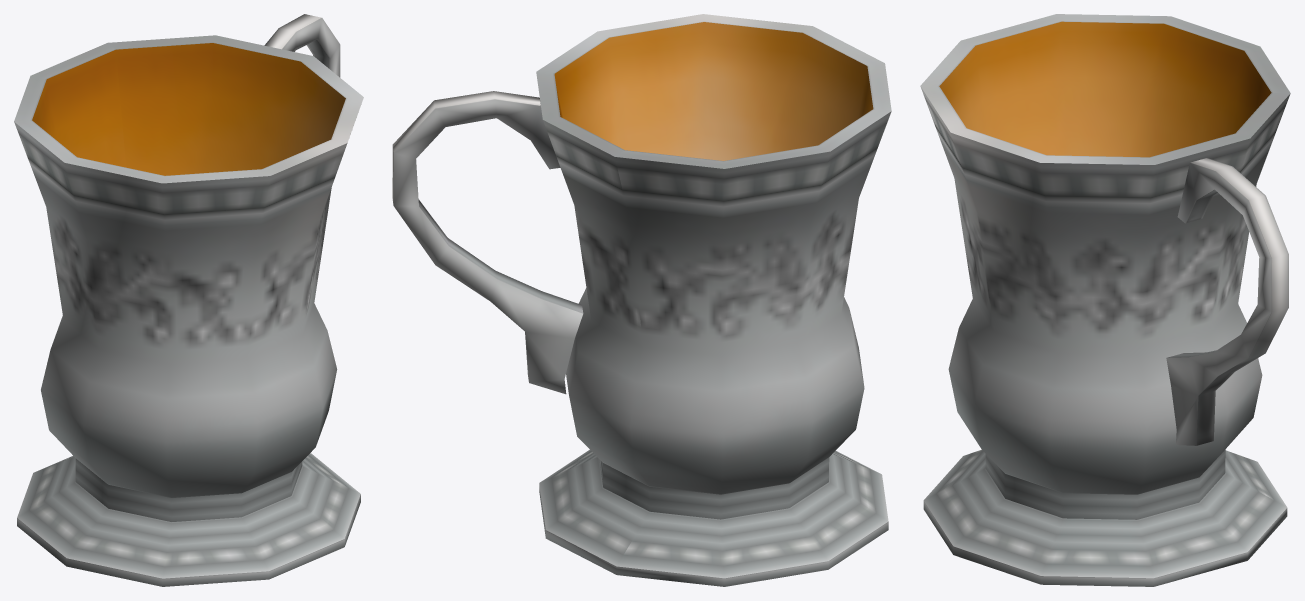
Rendered from TianZhuJiaoTang_01_yinsebeizi_01.FBX.
3 renders of one model, left to right at view 1: azimuth 30°, elevation 25°; view 2: azimuth 150°, elevation 25°; view 3: azimuth 270°, elevation 25°, orthographic. The views are drawn at different scales.
Visible parts, largest first — view 1: TianZhuJiaoTang_01_yinsebeizi_01; view 2: TianZhuJiaoTang_01_yinsebeizi_01; view 3: TianZhuJiaoTang_01_yinsebeizi_01.
Part boxes in pixels (x1,y1,x2,y2): TianZhuJiaoTang_01_yinsebeizi_01: (14, 14, 363, 586); TianZhuJiaoTang_01_yinsebeizi_01: (392, 14, 891, 586); TianZhuJiaoTang_01_yinsebeizi_01: (920, 14, 1290, 586).
Bounding box in the file's own units: 74.28 × 75.8 × 60.13.
